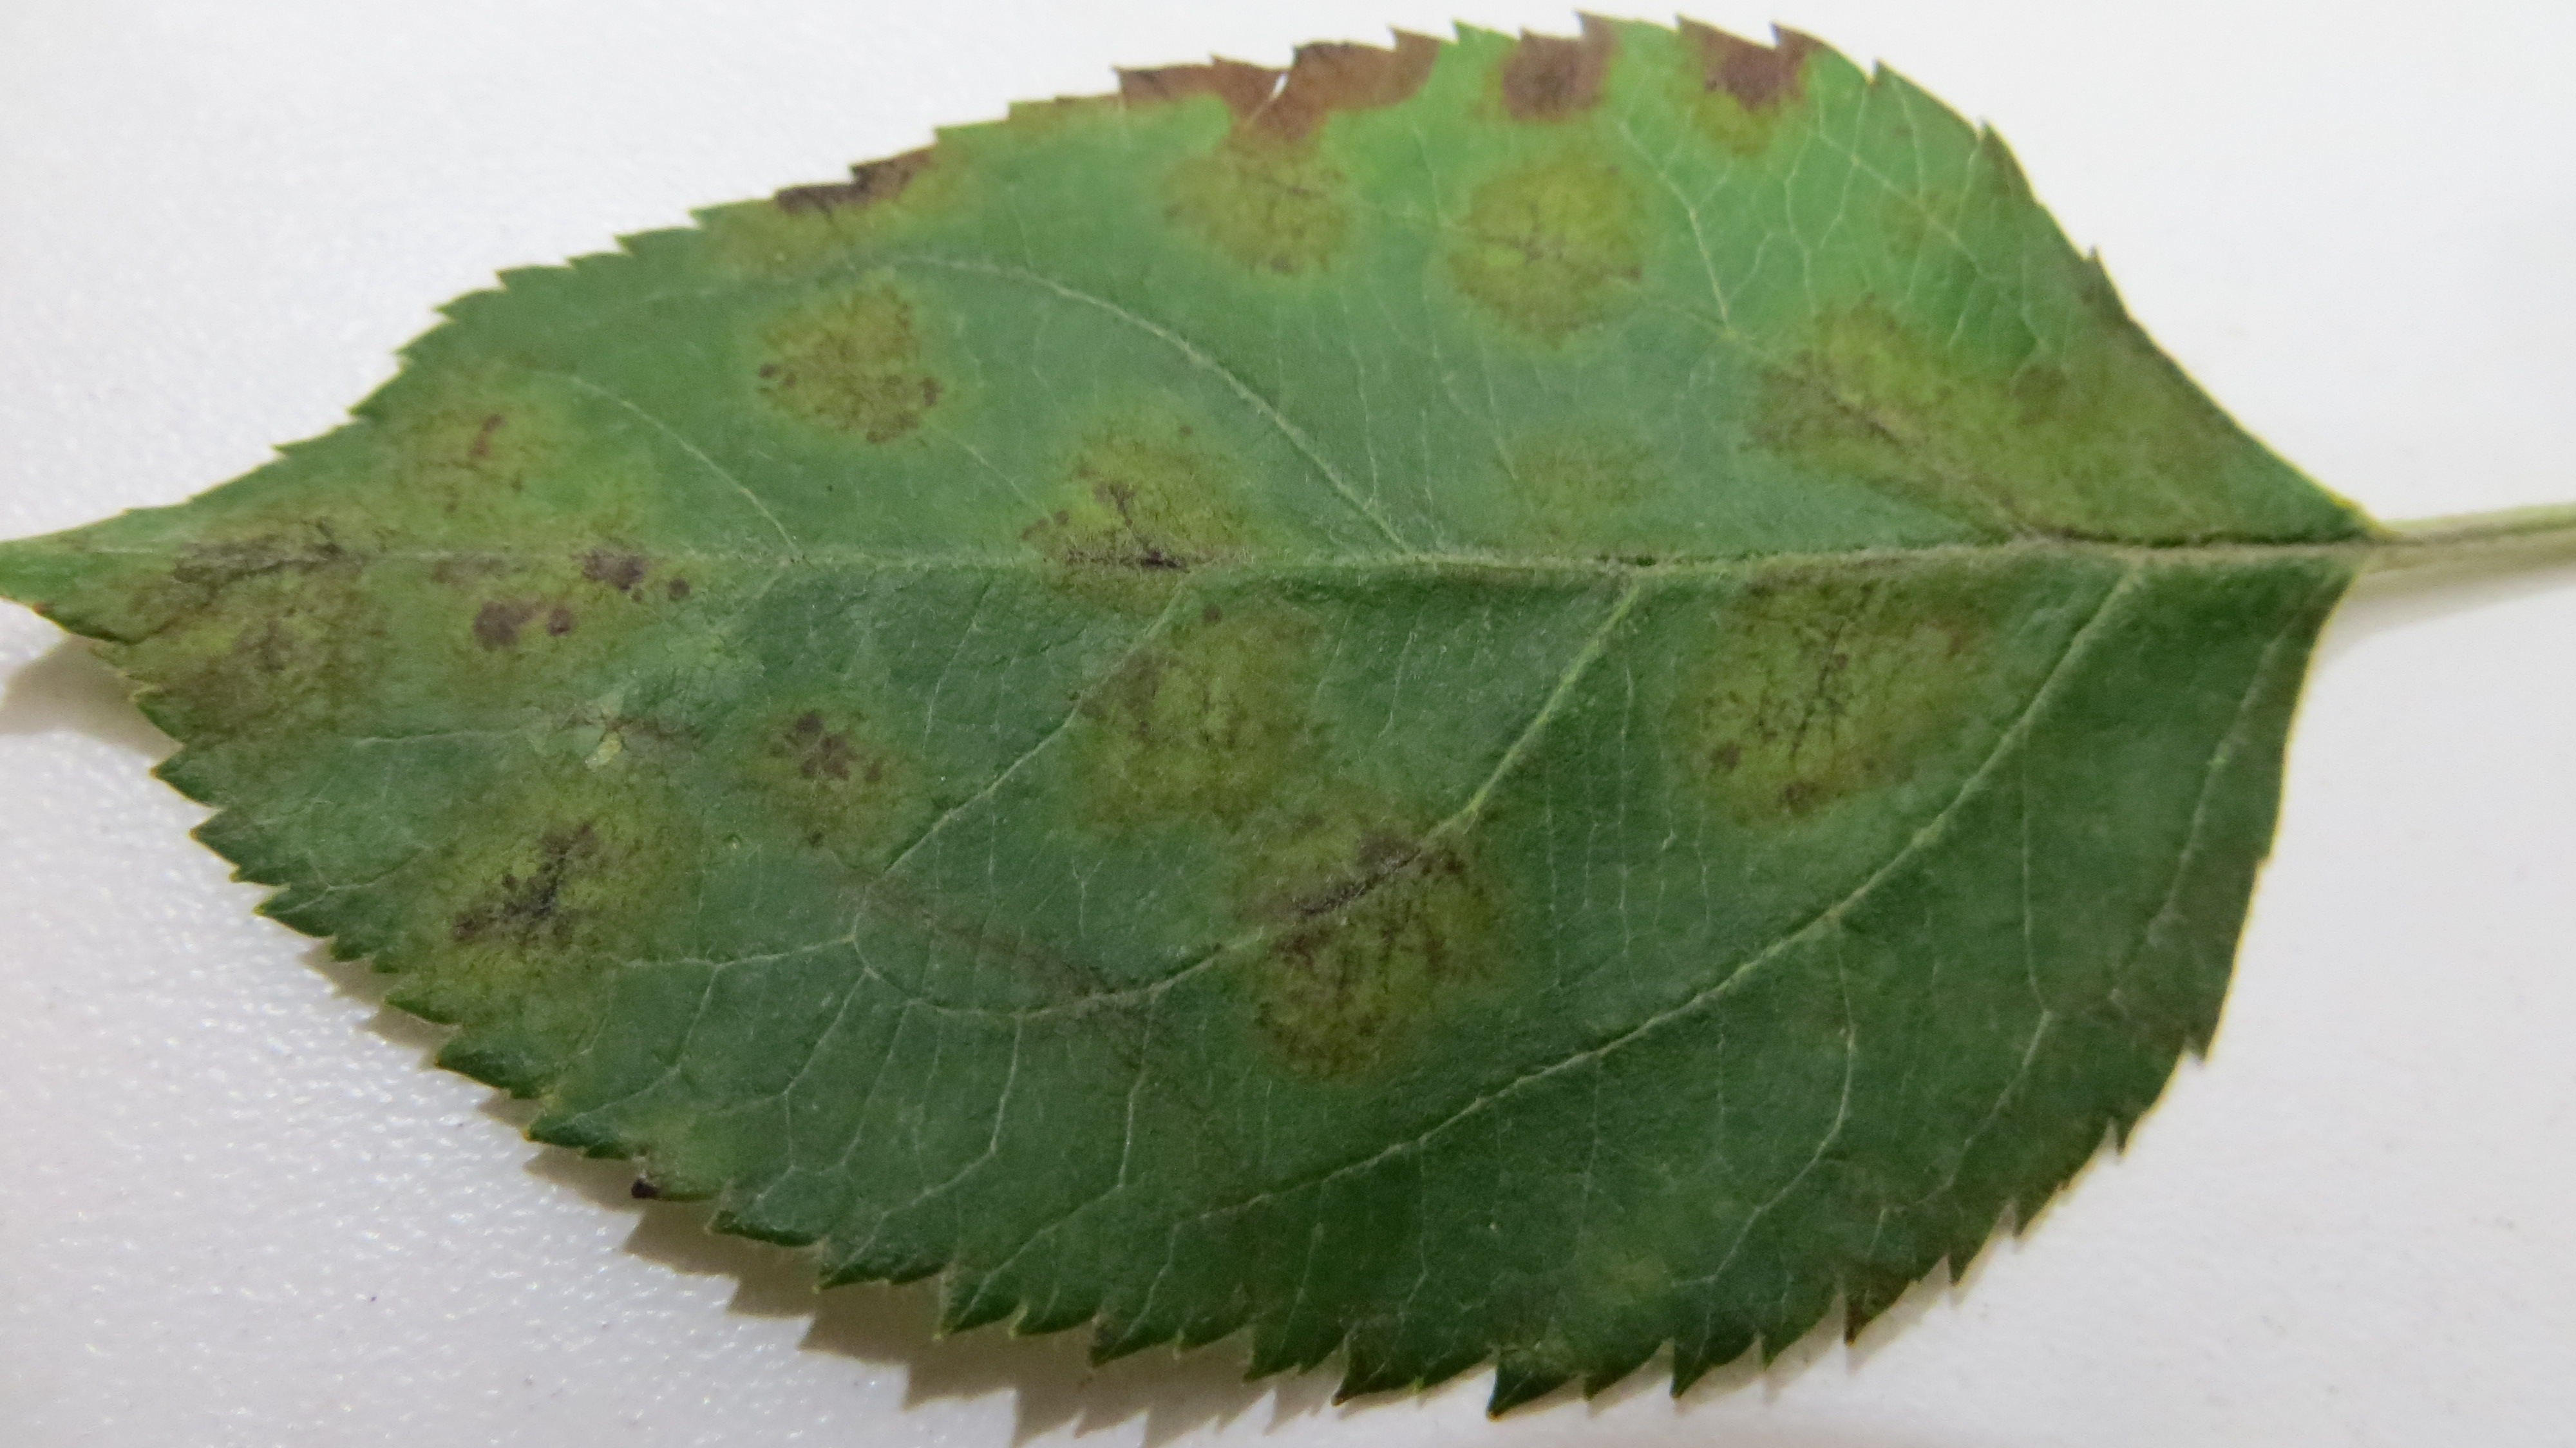sarna: (1693, 536, 1983, 844), (1231, 770, 1497, 1069), (1746, 294, 2043, 542), (124, 497, 387, 751), (1056, 579, 1316, 832), (418, 793, 692, 1025), (1024, 384, 1315, 582), (2042, 315, 2266, 565), (1445, 158, 1674, 377), (750, 271, 954, 471), (1136, 119, 1371, 290), (1157, 18, 1445, 136), (382, 358, 559, 547), (1514, 393, 1690, 572), (757, 685, 913, 860), (745, 138, 980, 248), (412, 542, 579, 685), (563, 481, 713, 639), (1477, 7, 1645, 142), (1698, 14, 1831, 147)
